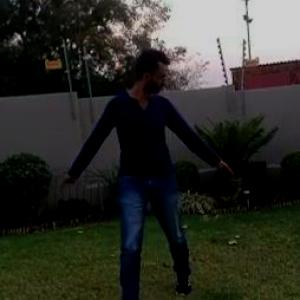land: (24, 35, 235, 299)
